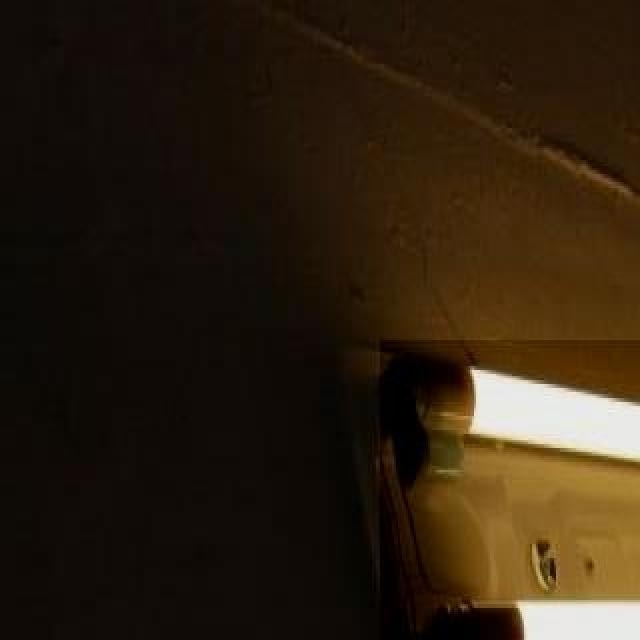fluorescent tube: (380, 344, 640, 544), (402, 576, 640, 640)
